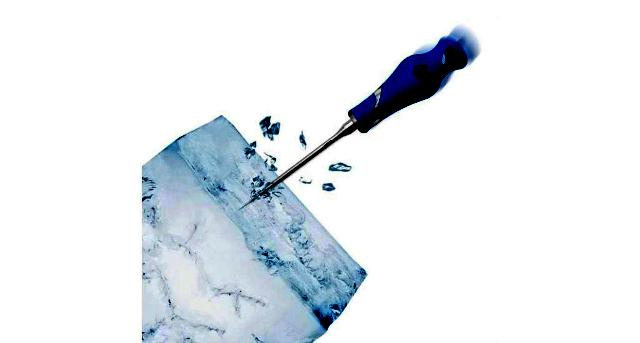ice pick: (237, 36, 468, 212)
